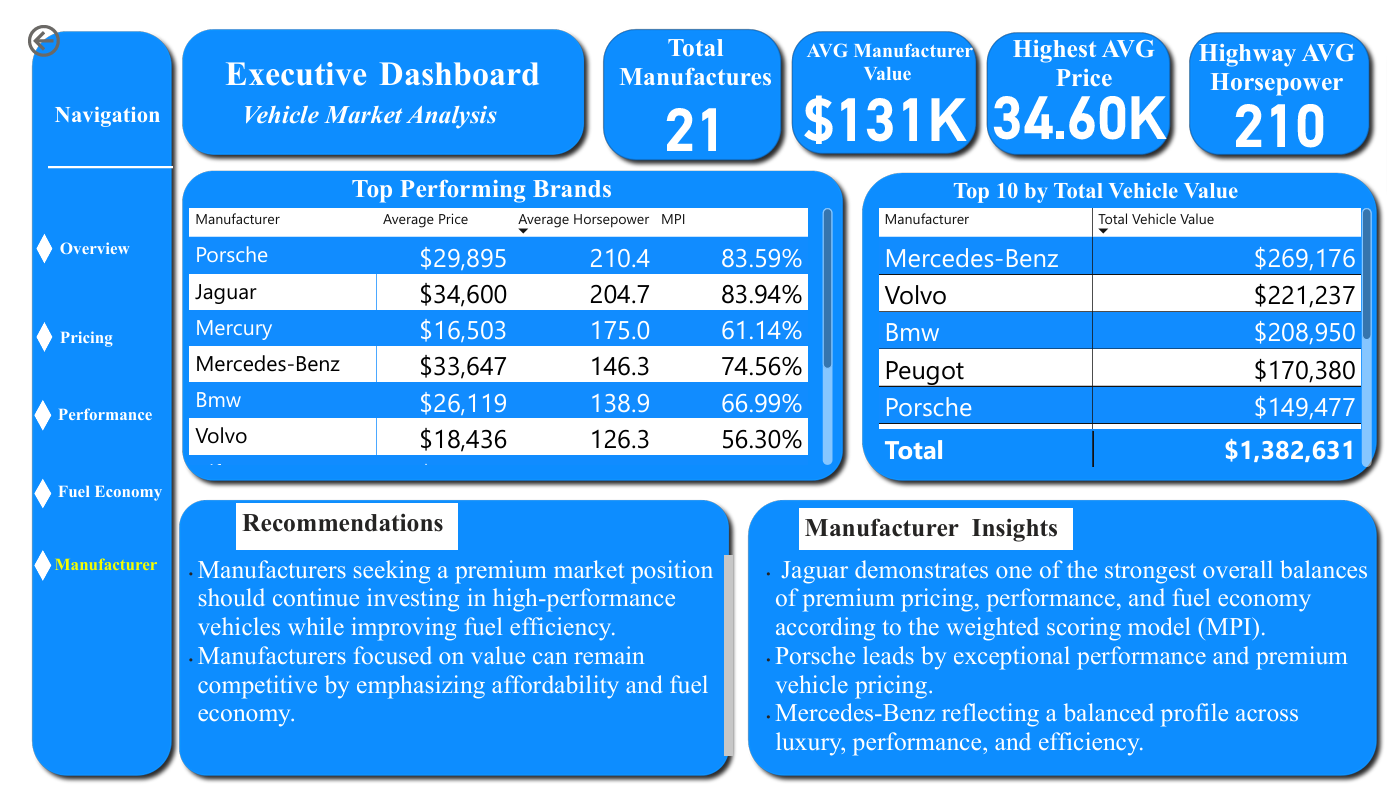

This screenshot's page, from the dashboard's own definition file:
{"tool":"powerbi","page":{"name":"Manufacturer Comparison","canvas":[1280,720],"ordinal":4},"visuals":[{"type":"shape","box":[672.3,442,608.1,277.4],"z":0},{"type":"shape","box":[137.9,442,534.4,277.4],"z":1000},{"type":"shape","box":[778.9,134.8,501.5,307.2],"z":2000},{"type":"shape","box":[141.1,0,394.9,136.3],"z":3000},{"type":"shape","box":[1086.1,3.1,186.5,133.2],"z":4000},{"type":"shape","box":[896.5,3.1,189.6,133.2],"z":5000},{"type":"shape","box":[713.1,1.6,191.2,133.2],"z":6000},{"type":"shape","box":[536,0,184.9,141.1],"z":7000},{"type":"card","fields":{"Values":["Measures (2).Total Manufacturers"]},"box":[545.4,48.6,172.4,95.6],"z":8000},{"type":"shape","box":[0,1.6,148.9,717.8],"z":9000},{"type":"textbox","box":[543.8,7.8,175.5,69],"z":10000},{"type":"card","fields":{"Values":["Measures (2).Average Manufacturer Revenue"]},"box":[719.4,42.3,178.7,90.9],"z":11000},{"type":"textbox","box":[724.1,12.5,180.2,67.4],"z":12000},{"type":"textbox","box":[904.3,9.4,183.4,67.4],"z":13000},{"type":"card","fields":{"Values":["Measures (2).Highest Average Price"]},"box":[895.8,33.5,191.4,104.1],"z":14000},{"type":"card","fields":{"Values":["Measures (2).Highest Avg Horsepower"]},"box":[1106.5,40.7,147.3,103.4],"z":15000},{"type":"textbox","box":[1083,12.5,194.3,67.4],"z":16000},{"type":"textbox","box":[126.9,26.6,421.6,84.6],"z":17000},{"type":"textbox","box":[200.6,70.5,299.3,45.4],"z":18000},{"type":"shape","box":[24.2,76.2,117.1,124.5],"z":19000},{"type":"textbox","box":[24.2,72.5,117.1,48.3],"z":20000},{"type":"shape","box":[12.5,200.6,15.7,28.2],"z":21000},{"type":"shape","box":[12.5,283.7,15.7,28.2],"z":22000},{"type":"textbox","box":[29.8,200.6,108.1,42.3],"z":23000},{"type":"textbox","box":[29.8,285.2,97.2,51.7],"z":24000},{"type":"shape","box":[11,357.3,15.7,28.2],"z":25000},{"type":"textbox","box":[28.2,357.3,133.2,34.5],"z":26000},{"type":"shape","box":[11,431,15.7,28.2],"z":27000},{"type":"textbox","box":[28.2,429.4,148.9,37.6],"z":28000},{"type":"textbox","box":[25,498.3,116.7,28.3],"z":29000},{"type":"shape","box":[11,498.4,15.7,28.2],"z":30000},{"type":"shape","box":[141.1,133.2,637.9,308.7],"z":31000},{"type":"pivotTable","title":"Top Manufacturers by Highway Fuel Economy","fields":{"Rows":["Cars.Manufacturer"],"Values":["Measures (2).Average Price","Measures (2).Average Horsepower","Measures (2).MPI"]},"box":[152,172.4,612.8,250.8],"z":32000},{"type":"textbox","box":[280.5,141.1,300.9,47],"z":33000},{"type":"tableEx","title":"Top Manufacturers by Highway Fuel Economy","fields":{"Values":["Cars.Manufacturer","Measures (2).Total Sales Value"]},"box":[797.7,172.4,473.3,252.3],"z":34000},{"type":"textbox","box":[857.3,144.2,299.3,43.9],"z":35000},{"type":"actionButton","box":[0,0,100,40],"z":36000},{"type":"textbox","box":[683.3,498.4,587.7,221],"z":37000},{"type":"textbox","box":[728.8,459.2,257,39.2],"z":37001},{"type":"textbox","box":[141.1,498.4,531.3,210],"z":37002},{"type":"textbox","box":[200.6,454.5,208.4,43.9],"z":37003}]}

Visuals, with their boxes in screenshot pixels (x1, y1, x2, y2), scaled from the page's 1280x720 canvas onto the 1396x807 screenshot:
shape: x1=733 y1=495 x2=1395 y2=806
shape: x1=150 y1=495 x2=733 y2=806
shape: x1=849 y1=151 x2=1395 y2=495
shape: x1=154 y1=0 x2=585 y2=153
shape: x1=1185 y1=3 x2=1388 y2=153
shape: x1=978 y1=3 x2=1185 y2=153
shape: x1=778 y1=2 x2=986 y2=151
shape: x1=585 y1=0 x2=786 y2=158
card - Measures (2).Total Manufacturers: x1=595 y1=54 x2=783 y2=162
shape: x1=0 y1=2 x2=162 y2=806
textbox: x1=593 y1=9 x2=784 y2=86
card - Measures (2).Average Manufacturer Revenue: x1=785 y1=47 x2=979 y2=149
textbox: x1=790 y1=14 x2=986 y2=90
textbox: x1=986 y1=11 x2=1186 y2=86
card - Measures (2).Highest Average Price: x1=977 y1=38 x2=1186 y2=154
card - Measures (2).Highest Avg Horsepower: x1=1207 y1=46 x2=1367 y2=162
textbox: x1=1181 y1=14 x2=1393 y2=90
textbox: x1=138 y1=30 x2=598 y2=125
textbox: x1=219 y1=79 x2=545 y2=130
shape: x1=26 y1=85 x2=154 y2=225
textbox: x1=26 y1=81 x2=154 y2=135
shape: x1=14 y1=225 x2=31 y2=256
shape: x1=14 y1=318 x2=31 y2=350
textbox: x1=33 y1=225 x2=150 y2=272
textbox: x1=33 y1=320 x2=139 y2=378
shape: x1=12 y1=400 x2=29 y2=432
textbox: x1=31 y1=400 x2=176 y2=439
shape: x1=12 y1=483 x2=29 y2=515
textbox: x1=31 y1=481 x2=193 y2=523
textbox: x1=27 y1=559 x2=155 y2=590
shape: x1=12 y1=559 x2=29 y2=590
shape: x1=154 y1=149 x2=850 y2=495
"Top Manufacturers by Highway Fuel Economy" pivotTable: x1=166 y1=193 x2=834 y2=474
textbox: x1=306 y1=158 x2=634 y2=211
"Top Manufacturers by Highway Fuel Economy" tableEx: x1=870 y1=193 x2=1386 y2=476
textbox: x1=935 y1=162 x2=1261 y2=211
actionButton: x1=0 y1=0 x2=109 y2=45
textbox: x1=745 y1=559 x2=1386 y2=806
textbox: x1=795 y1=515 x2=1075 y2=559
textbox: x1=154 y1=559 x2=733 y2=794
textbox: x1=219 y1=509 x2=446 y2=559
